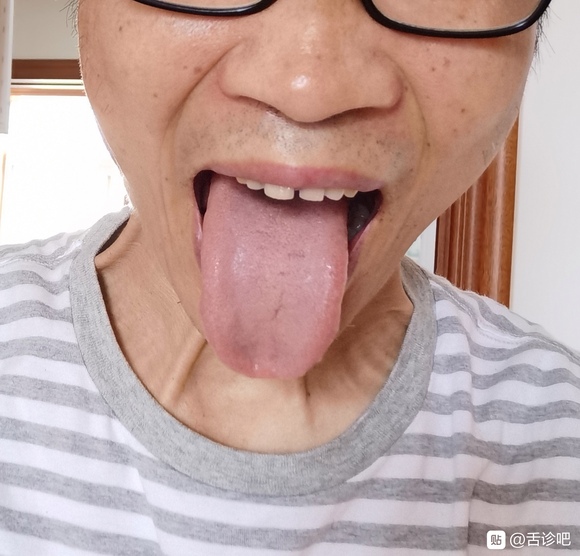jiankangshe: (200, 173, 348, 381)
